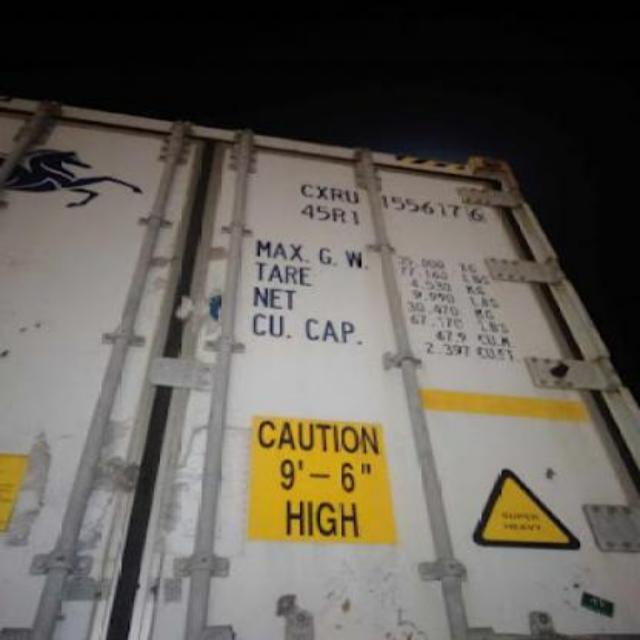1: (438, 189, 450, 219), (380, 188, 390, 215)
5: (404, 186, 420, 216), (392, 182, 404, 216)
6: (466, 201, 490, 227), (422, 190, 434, 218)
7: (446, 198, 462, 222)
C: (298, 177, 312, 200)
R: (330, 179, 346, 205)
U: (344, 180, 358, 203)
X: (312, 183, 332, 201)
